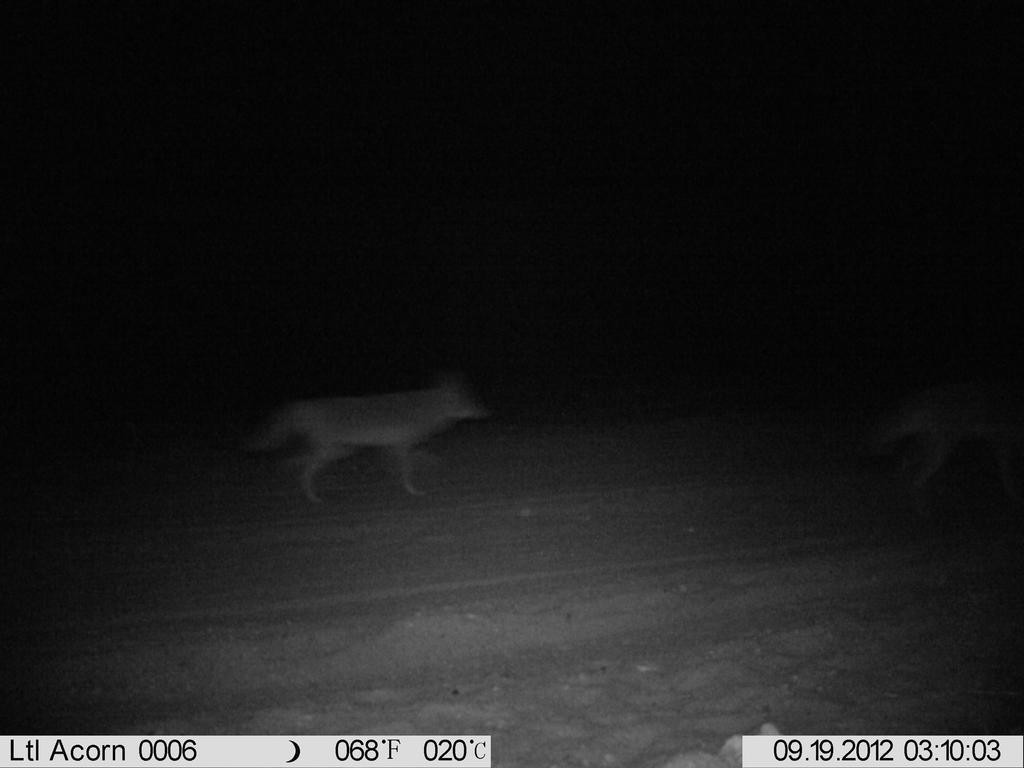coyote: (183, 303, 588, 551)
